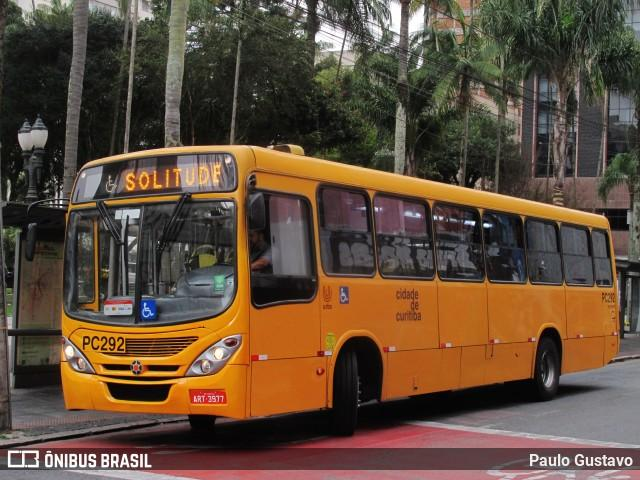SOLITUDE: (120, 160, 227, 197)
